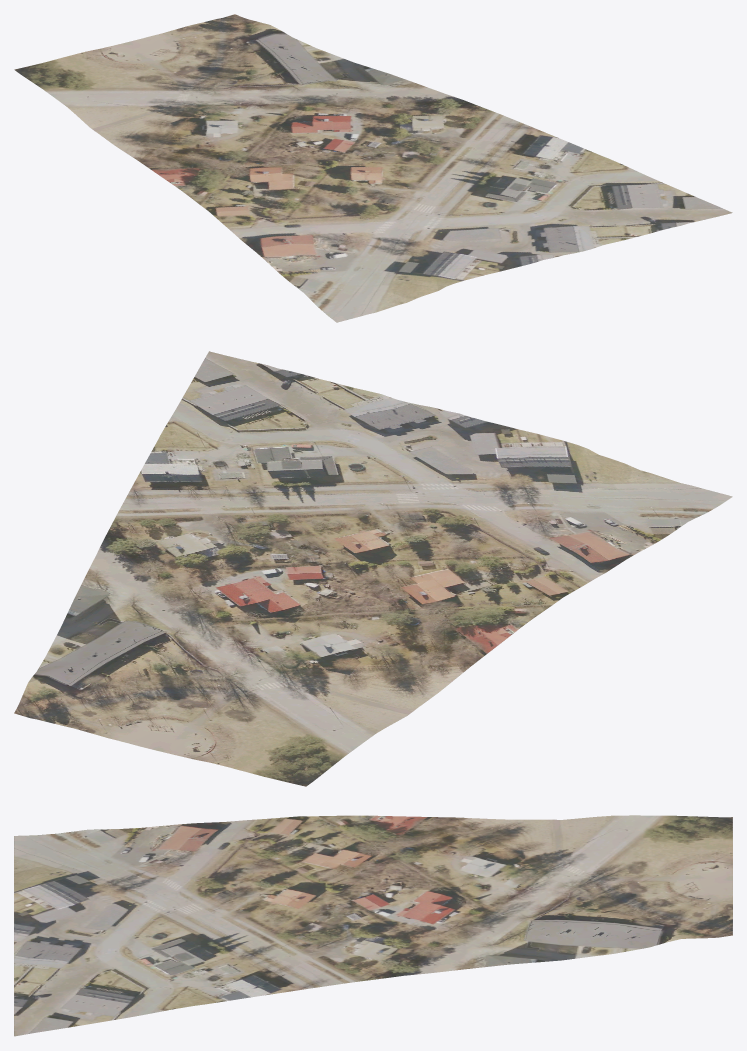
Rendered from CM_Terrain_24491687_6820408.fbx.
3 views of the same model, one above another, from view 1: azimuth 30°, elevation 25°; view 2: azimuth 150°, elevation 25°; view 3: azimuth 270°, elevation 25° (orthographic). The views are drawn at different scales.
Parts seen in each view (by area): view 1: CM_Terrain_24491687_6820408_LOD0; view 2: CM_Terrain_24491687_6820408_LOD0; view 3: CM_Terrain_24491687_6820408_LOD0.
Part boxes in pixels (left/top/right/bottom): CM_Terrain_24491687_6820408_LOD0: left=14, top=14, right=732, bottom=322; CM_Terrain_24491687_6820408_LOD0: left=14, top=351, right=732, bottom=786; CM_Terrain_24491687_6820408_LOD0: left=14, top=815, right=732, bottom=1036.
Size of what is drawn, in the model's own units: 145 by 7.76 by 205.
